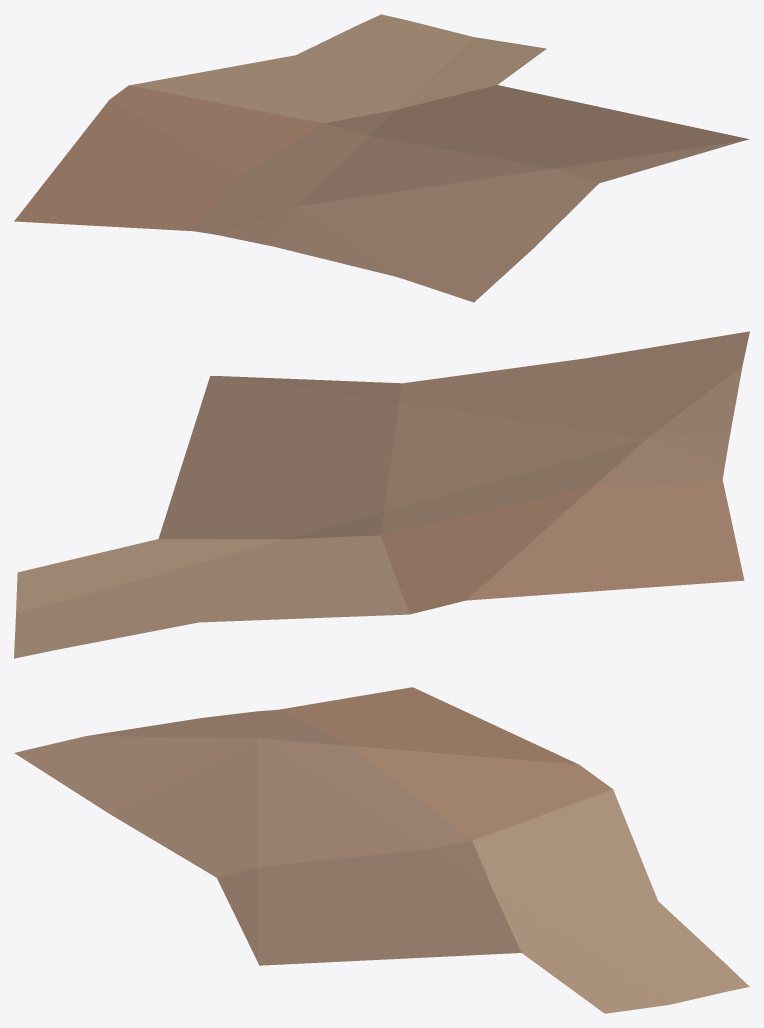
Rendered from farm_-18_-27_soil.glb.
The picture shows the model from 3 angles, top to bottom: view 1: azimuth 30°, elevation 25°; view 2: azimuth 150°, elevation 25°; view 3: azimuth 270°, elevation 25°; orthographic projection. The views are drawn at different scales.
Visible parts, largest first — view 1: geometry_0; view 2: geometry_0; view 3: geometry_0.
Part boxes in pixels (x1=…): geometry_0: x1=14, y1=14, x2=749, y2=302; geometry_0: x1=14, y1=331, x2=749, y2=658; geometry_0: x1=14, y1=687, x2=749, y2=1013.
Size of the model in its own units: 109 by 17.99 by 125.
